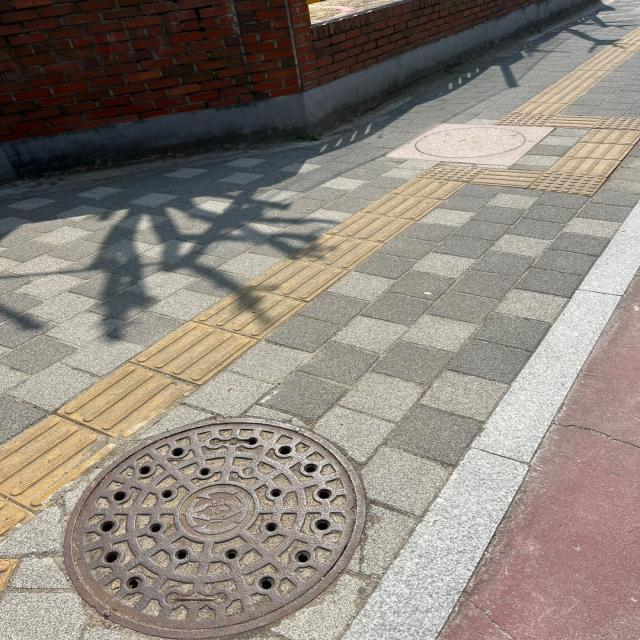Sewer Cover: (36, 398, 401, 640), (386, 116, 545, 182)
